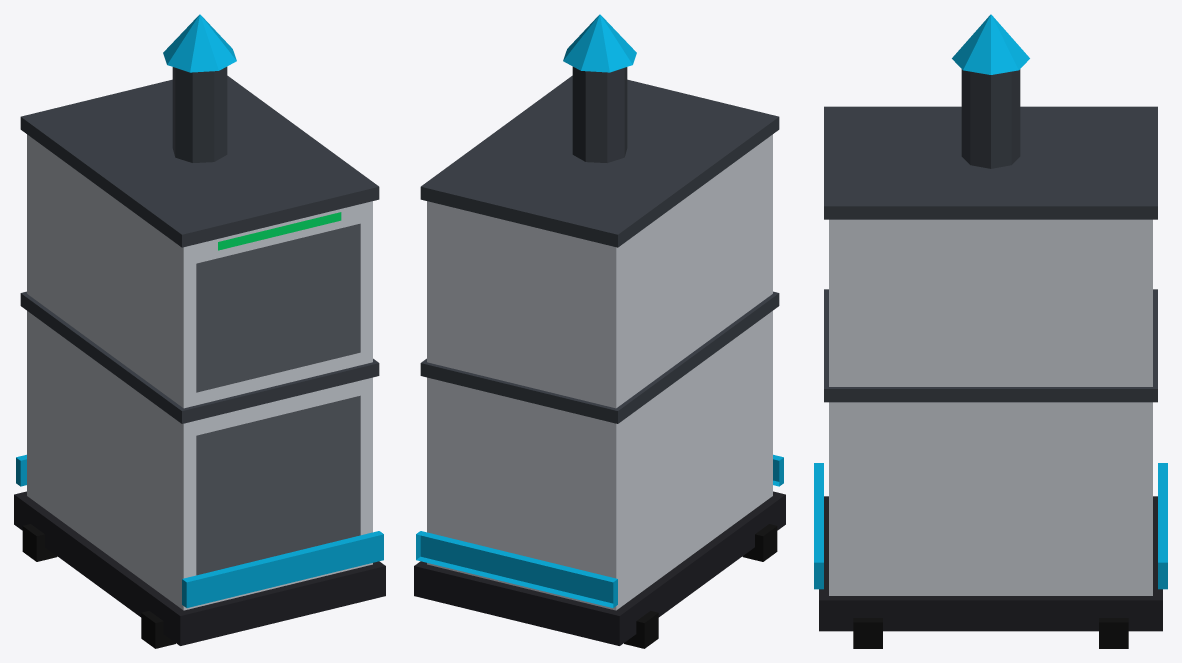
The model's file is tug_robot.obj.
3 renders of one model, left to right at view 1: azimuth 30°, elevation 25°; view 2: azimuth 150°, elevation 25°; view 3: azimuth 270°, elevation 25°, orthographic. The views are drawn at different scales.
Visible parts, largest first — view 1: Door_Lines, Lower_Body, Upper_Body, Top_Plate, Base, Front_Bumper, Shelf_Divider, Sensor_Tower, Sensor_Dome, Wheels, Status_Bar; view 2: Lower_Body, Upper_Body, Top_Plate, Base, Rear_Bumper, Shelf_Divider, Sensor_Tower, Sensor_Dome, Wheels; view 3: Lower_Body, Upper_Body, Top_Plate, Base, Shelf_Divider, Sensor_Tower, Sensor_Dome, Wheels, Front_Bumper, Rear_Bumper.
Boxes of the visible parts, left/top/right/bottom form: Door_Lines: left=196, top=223, right=360, bottom=575; Lower_Body: left=27, top=311, right=372, bottom=610; Upper_Body: left=27, top=134, right=372, bottom=408; Top_Plate: left=20, top=75, right=379, bottom=247; Base: left=14, top=491, right=385, bottom=645; Front_Bumper: left=182, top=531, right=383, bottom=607; Shelf_Divider: left=20, top=291, right=379, bottom=423; Sensor_Tower: left=172, top=66, right=227, bottom=162; Sensor_Dome: left=163, top=14, right=236, bottom=72; Wheels: left=22, top=524, right=175, bottom=648; Status_Bar: left=218, top=212, right=341, bottom=250; Lower_Body: left=427, top=311, right=772, bottom=610; Upper_Body: left=427, top=134, right=772, bottom=408; Top_Plate: left=420, top=75, right=779, bottom=247; Base: left=414, top=491, right=785, bottom=645; Rear_Bumper: left=416, top=531, right=617, bottom=607; Shelf_Divider: left=420, top=291, right=779, bottom=423; Sensor_Tower: left=572, top=66, right=627, bottom=162; Sensor_Dome: left=563, top=14, right=636, bottom=72; Wheels: left=624, top=524, right=777, bottom=648; Lower_Body: left=829, top=402, right=1152, bottom=595; Upper_Body: left=829, top=219, right=1152, bottom=386; Top_Plate: left=824, top=106, right=1157, bottom=219; Base: left=819, top=496, right=1162, bottom=631; Shelf_Divider: left=824, top=289, right=1157, bottom=402; Sensor_Tower: left=961, top=69, right=1020, bottom=168; Sensor_Dome: left=952, top=14, right=1029, bottom=74; Wheels: left=853, top=618, right=1128, bottom=648; Front_Bumper: left=814, top=463, right=823, bottom=589; Rear_Bumper: left=1158, top=463, right=1167, bottom=589.
Bounding box in the file's own units: 0.54 × 1.3 × 0.72.
